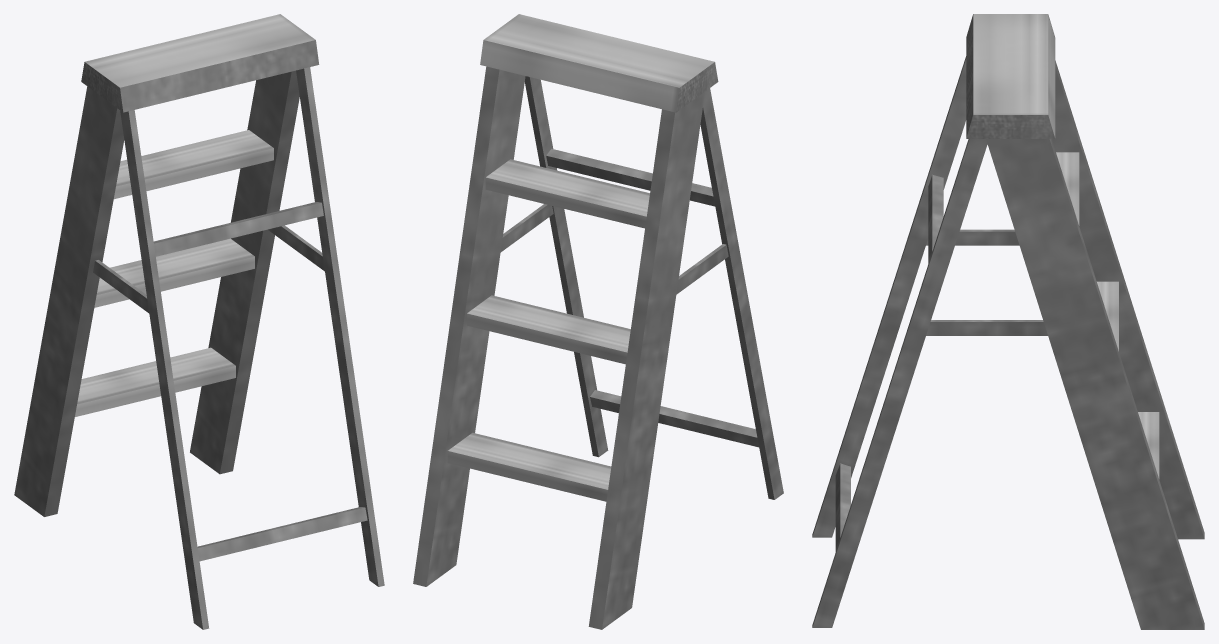
File: Ladder.fbx
3 renders of one model, left to right at view 1: azimuth 30°, elevation 25°; view 2: azimuth 150°, elevation 25°; view 3: azimuth 270°, elevation 25°, orthographic. The views are drawn at different scales.
Parts seen in each view (by area): view 1: Maya_File_Assets:TexturedAssetsCurrent:ladder; view 2: Maya_File_Assets:TexturedAssetsCurrent:ladder; view 3: Maya_File_Assets:TexturedAssetsCurrent:ladder.
Boxes of the visible parts, <box> form: Maya_File_Assets:TexturedAssetsCurrent:ladder: <box>14,14,384,629</box>; Maya_File_Assets:TexturedAssetsCurrent:ladder: <box>413,14,783,629</box>; Maya_File_Assets:TexturedAssetsCurrent:ladder: <box>812,14,1204,629</box>.
Bounding box in the file's own units: 0.5495 × 1.31 × 0.9004.
